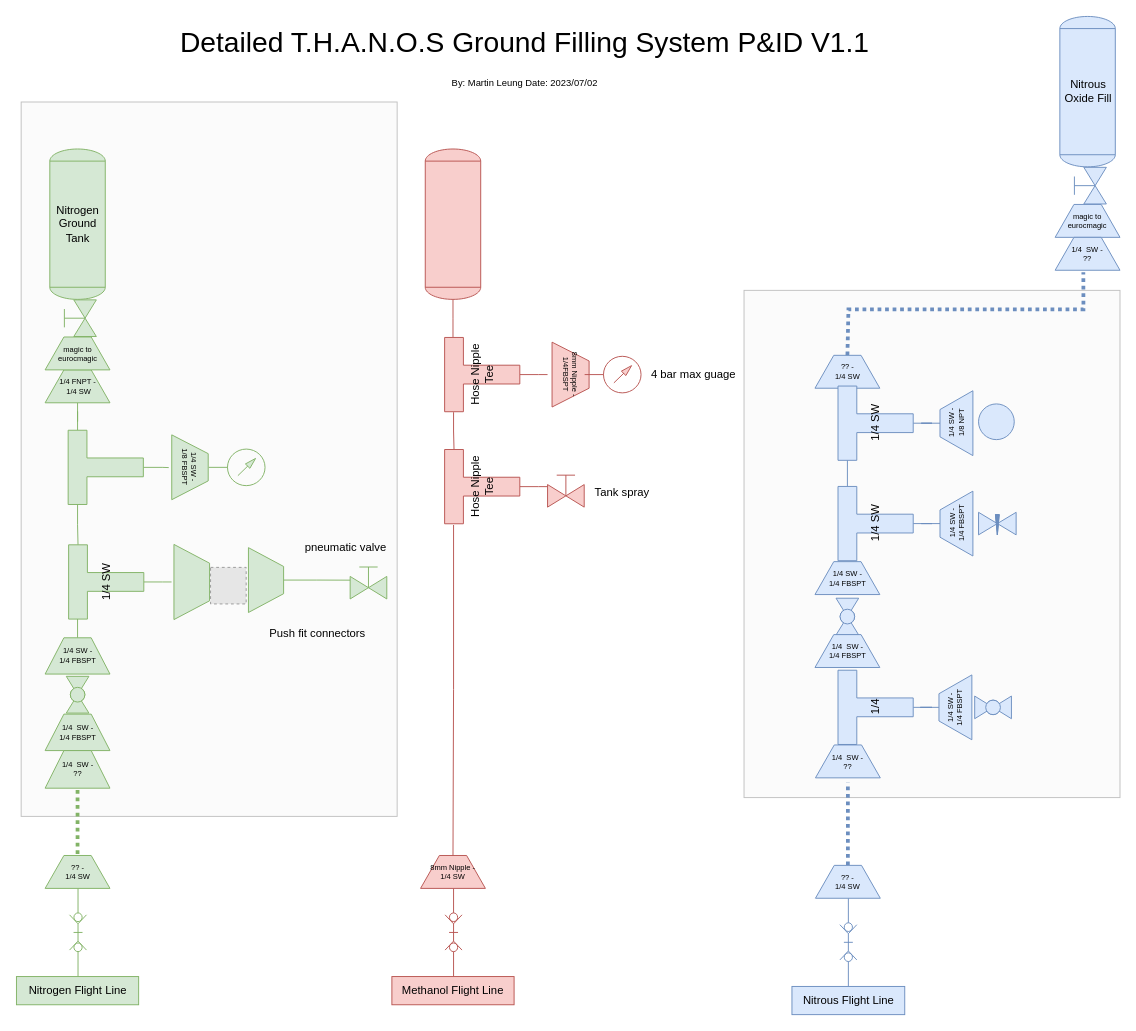
This 1136x1031 diagram has some shape labels left out. Grey dashed boxes stand in for pictures. The box of each missing label's shape, as (x1, y1, x2, y2) in pixels:
1/4 FBSPP: (67, 429, 143, 504)
1/4 SW - 1/8 BS 341 No. 3 (I think this is 5/8 FBSPP): (173, 544, 210, 620)
3/8 FBSPP - 1/4 FBSPP: (248, 547, 284, 613)
Methanol Fill Tank: (424, 148, 481, 299)
P1: (978, 403, 1014, 440)
